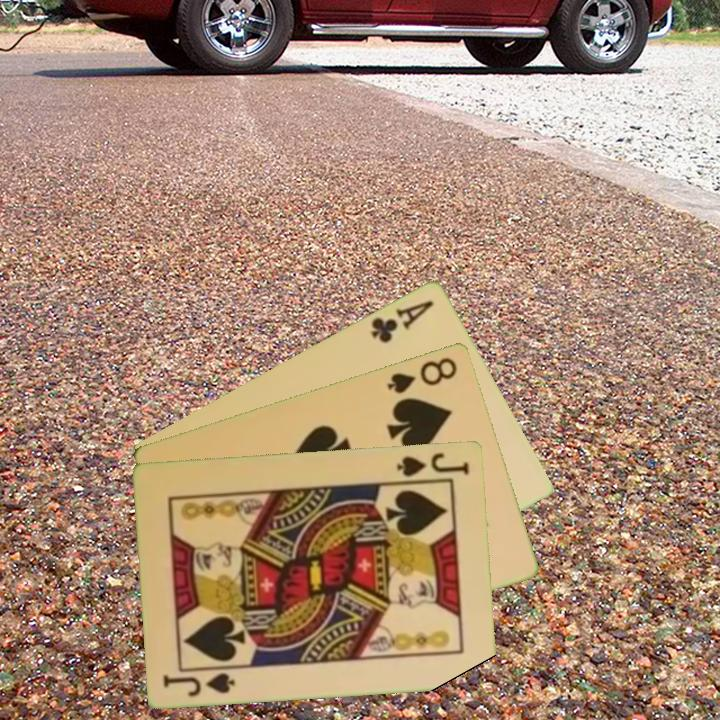8s: (384, 353, 460, 396)
Ac: (368, 296, 437, 346)
Js: (393, 449, 473, 479), (160, 669, 239, 699)
